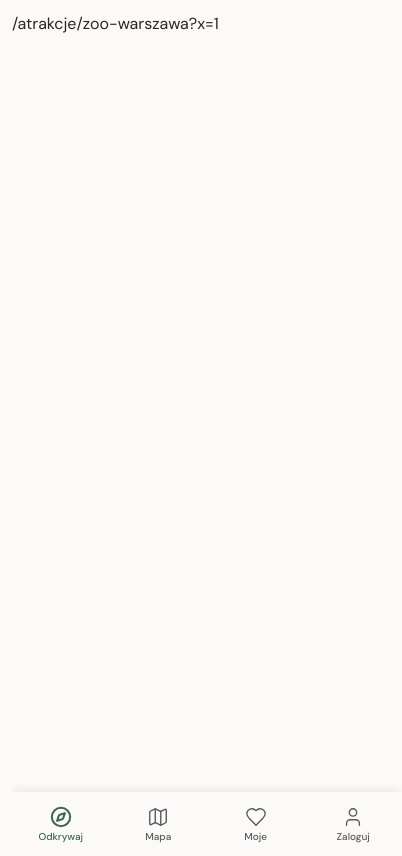
BottomNav — „Mapa” zachowuje filtry strony głównej (FMN-B53) › poza „/” (karta, strona województwa) zostaje /?view=map
Click the button "Mapa" at (158, 824), box [110, 792, 207, 855]
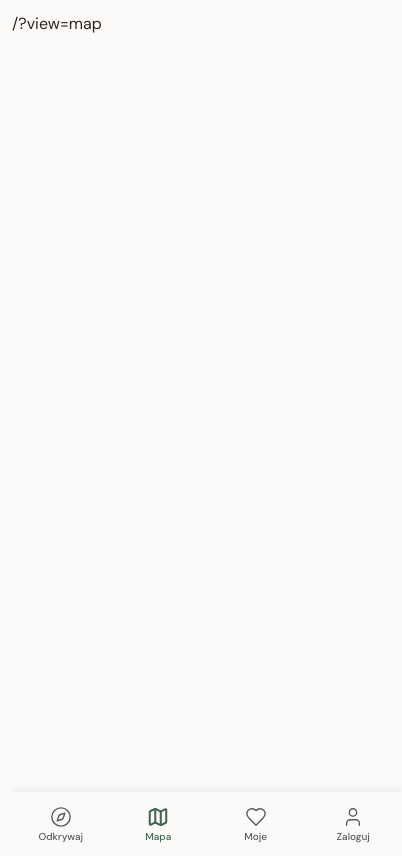
Result: the text with test id "adres" reads "/?view=map" at [12, 13, 102, 34]
